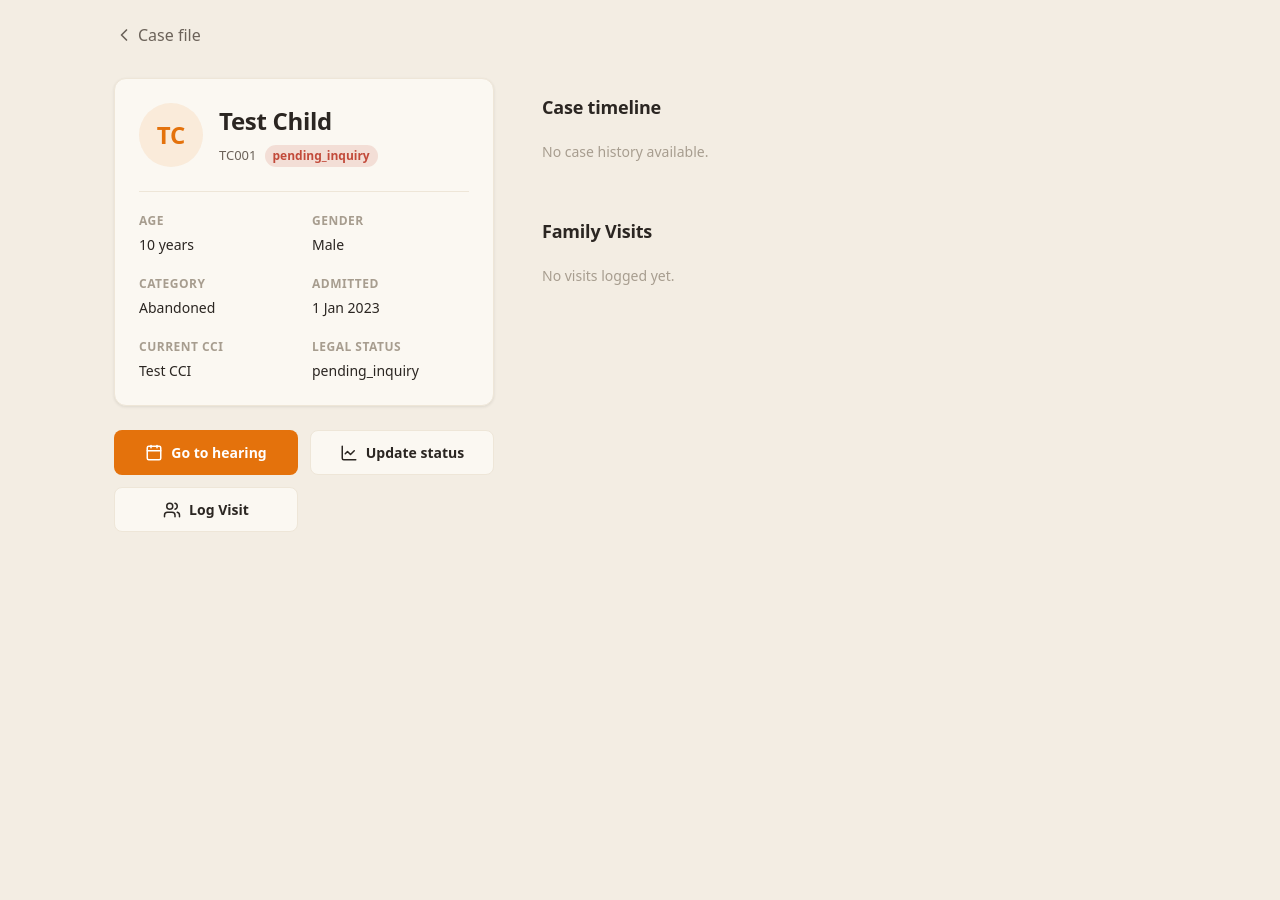
Test: ChildProfile Component › renders "Go to hearing" button when active hearing is present and shows overlay on click
Expected: the heading "Test Child" is shown, [219,104,332,137]
Click the button
What coordinates should you click on to do the following:
click the button "Go to hearing"
I would click on:
 (206, 452)
Its box is [114,430,298,475].
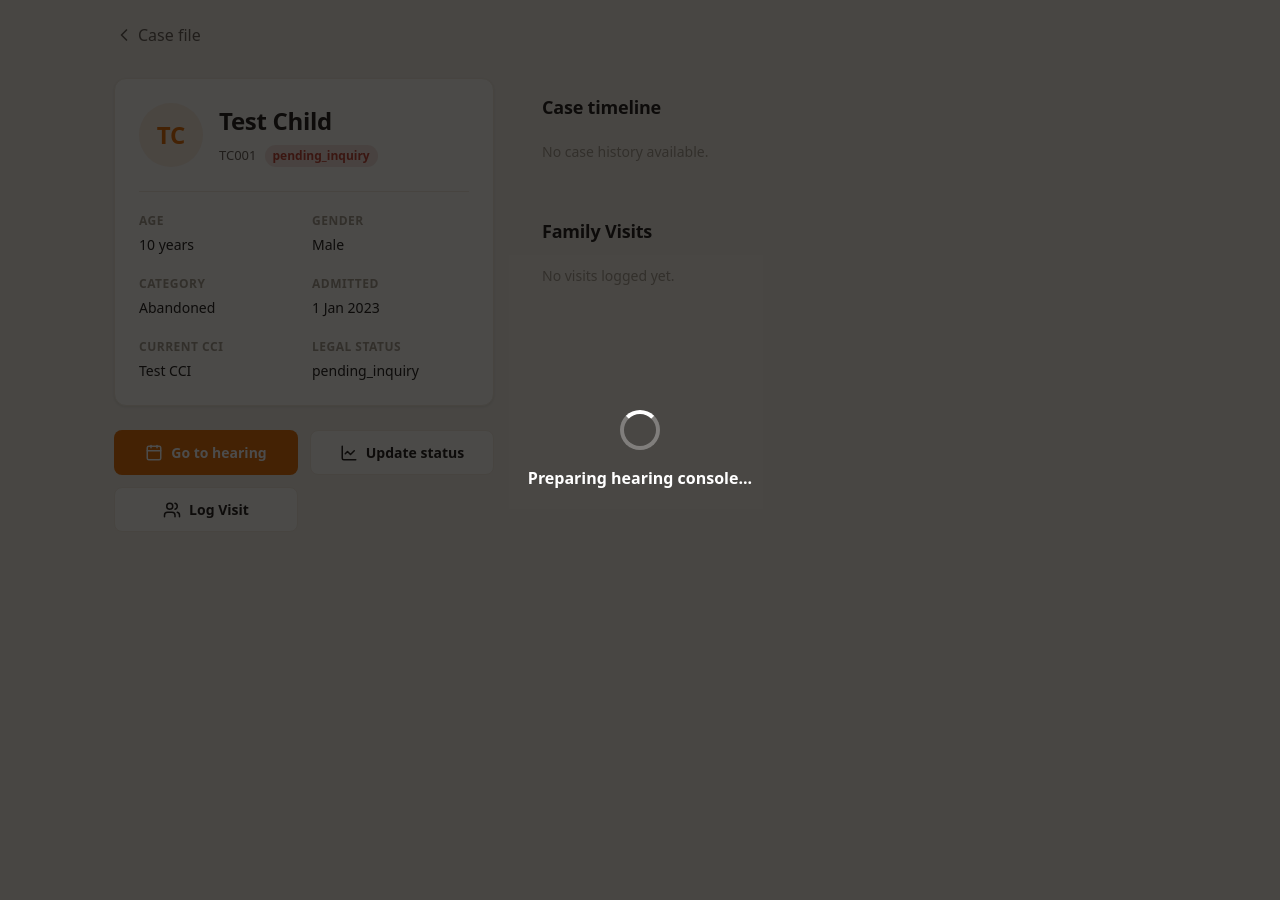
Now the text "Preparing hearing console..." is shown, box [528,466,752,490]
